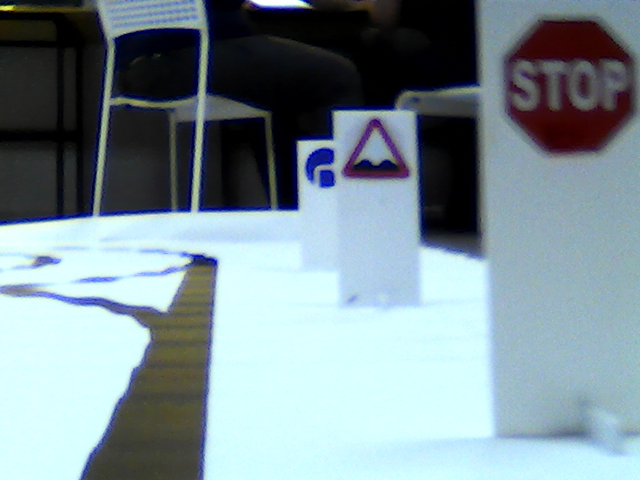Nerov: (345, 116, 411, 181)
Right: (303, 148, 336, 189)
Stop: (494, 18, 630, 161)
